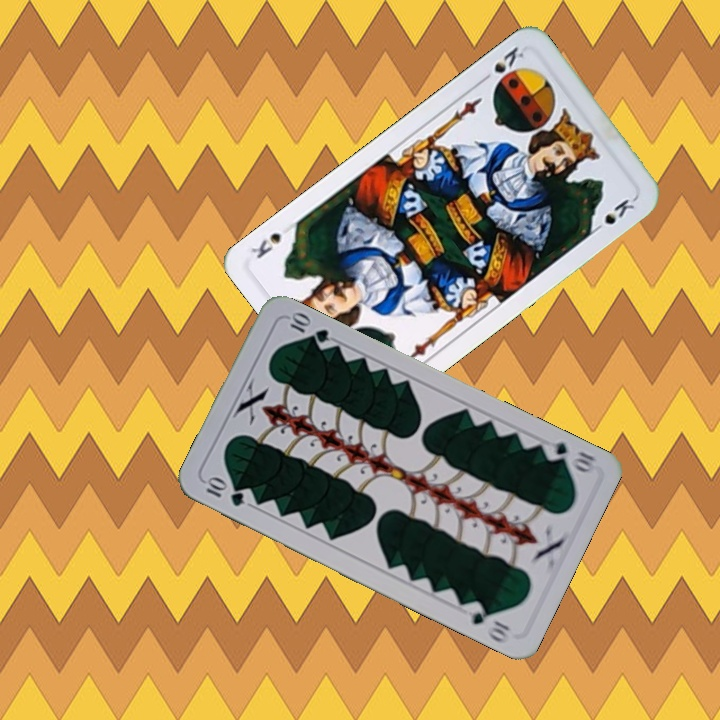G10: (538, 436, 600, 476), (201, 473, 248, 509)
SK: (476, 42, 527, 89)
